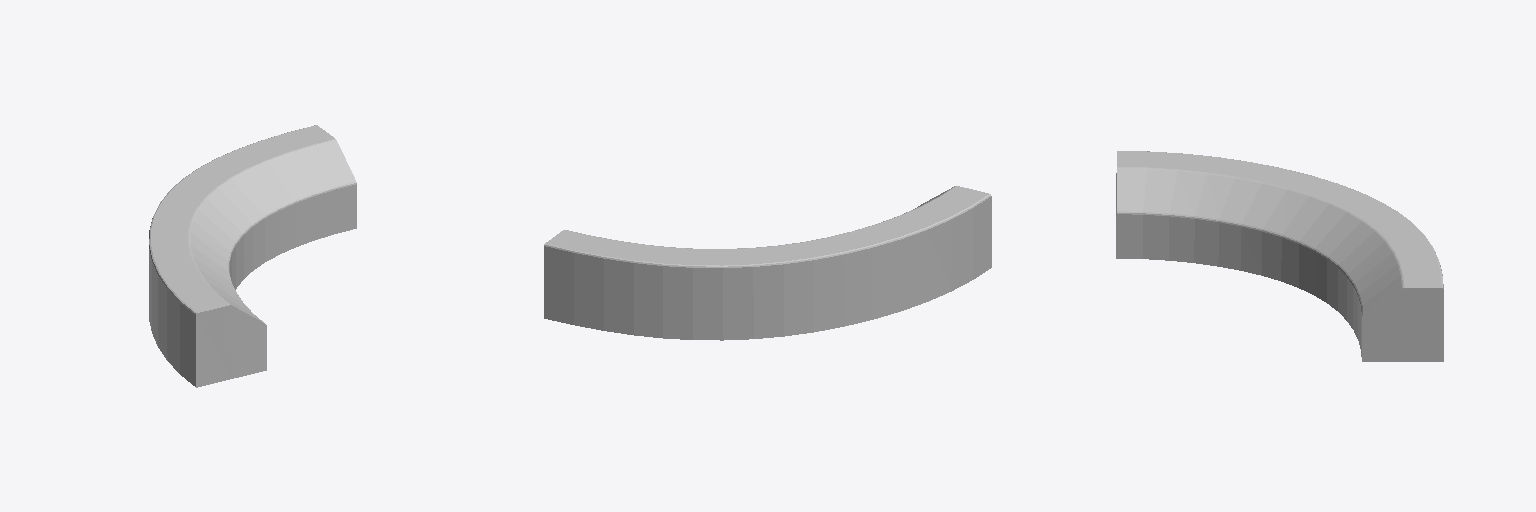
The model's file is Outside Bend_HP.obj.
3 views of the same model, side by side, from view 1: azimuth 30°, elevation 25°; view 2: azimuth 150°, elevation 25°; view 3: azimuth 270°, elevation 25° (orthographic).
Parts seen in each view (by area): view 1: Outside_Bend_HP; view 2: Outside_Bend_HP; view 3: Outside_Bend_HP.
Boxes of the visible parts, <box> form: Outside_Bend_HP: <box>149,125,356,387</box>; Outside_Bend_HP: <box>544,186,991,340</box>; Outside_Bend_HP: <box>1116,151,1443,361</box>.
Bounding box in the file's own units: 4 × 1 × 4.